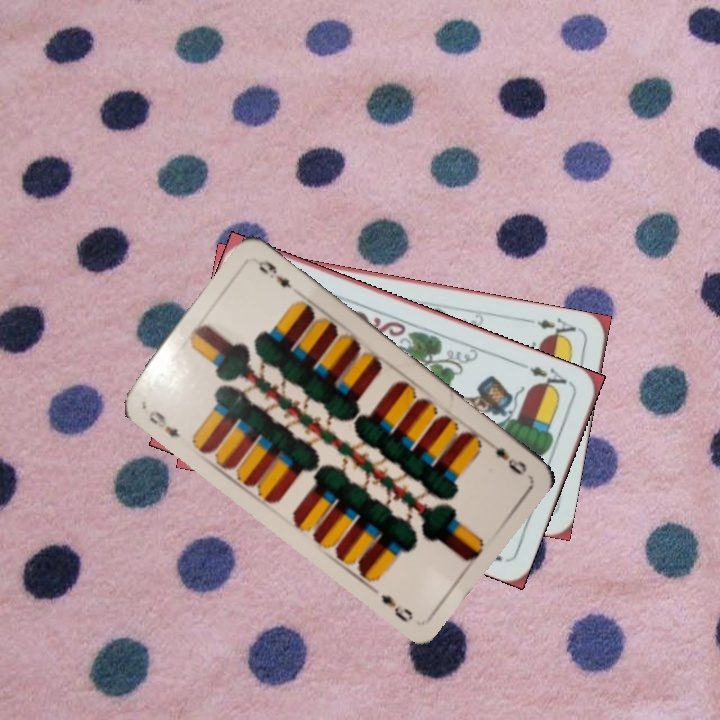E9: (483, 435, 530, 478), (144, 406, 183, 441)
EA: (523, 313, 579, 343), (525, 362, 574, 395)
